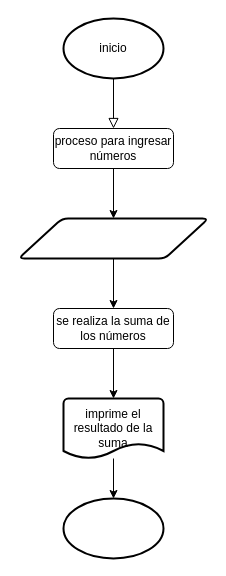
This 226x576 diagram has some shape labels left out. Here are the shapes that lost their labels. From the top down, the centre of each, then its label:
At [113,238]: "el usuario ingresa los numeros para sumar".
At [113,528]: "fin".
